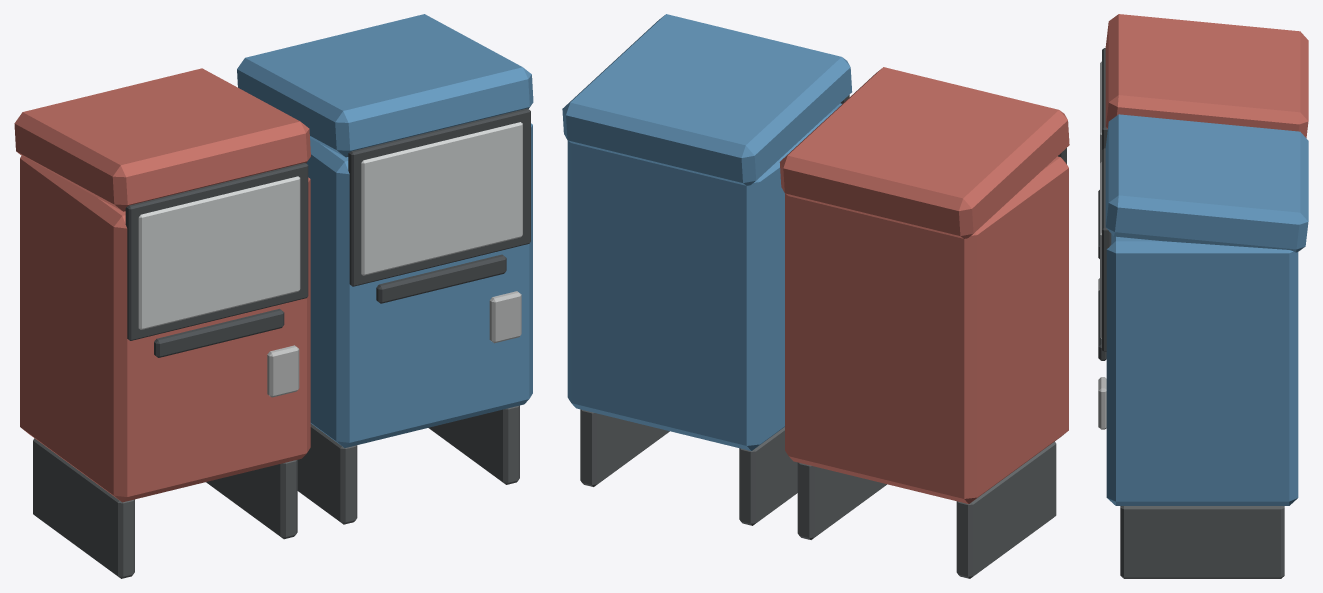
Rendered from news_box.glb.
The picture shows the model from 3 angles, left to right: view 1: azimuth 30°, elevation 25°; view 2: azimuth 150°, elevation 25°; view 3: azimuth 270°, elevation 25°; orthographic projection. The views are drawn at different scales.
Visible parts, largest first — view 1: NewsBox; view 2: NewsBox; view 3: NewsBox.
Boxes of the visible parts, box(x1,y1,x2,y2) form: NewsBox: box(14, 14, 533, 578); NewsBox: box(562, 14, 1069, 578); NewsBox: box(1098, 14, 1308, 578).
Bounding box in the file's own units: 0.98 × 0.9306 × 0.4599.
